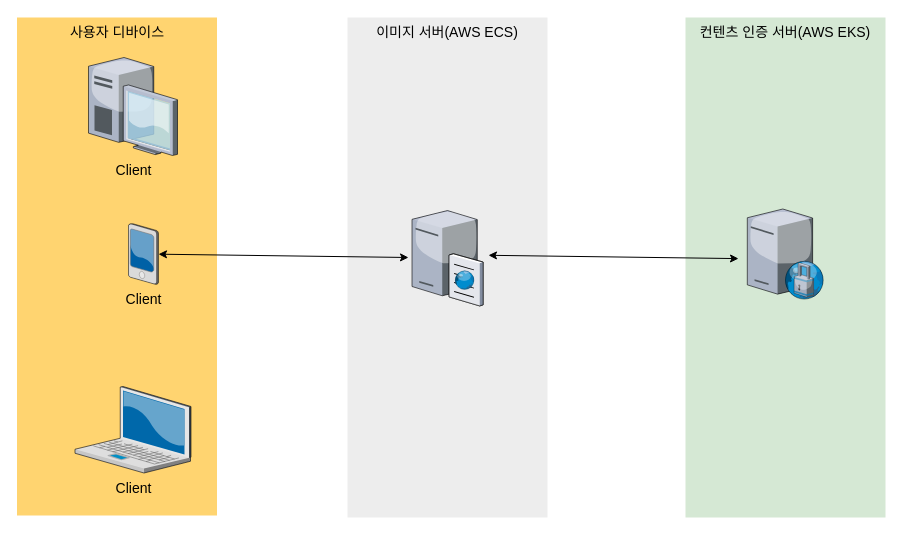
Some shapes in this 903 by 534 pixel diagram are drawn without their labels. The shapes that lost their labels are listed below. From the top down, each one's centre as x and y in pixels, then its label:
At (x=447, y=256): "Web Server".
At (x=785, y=253): "Secure Server".
